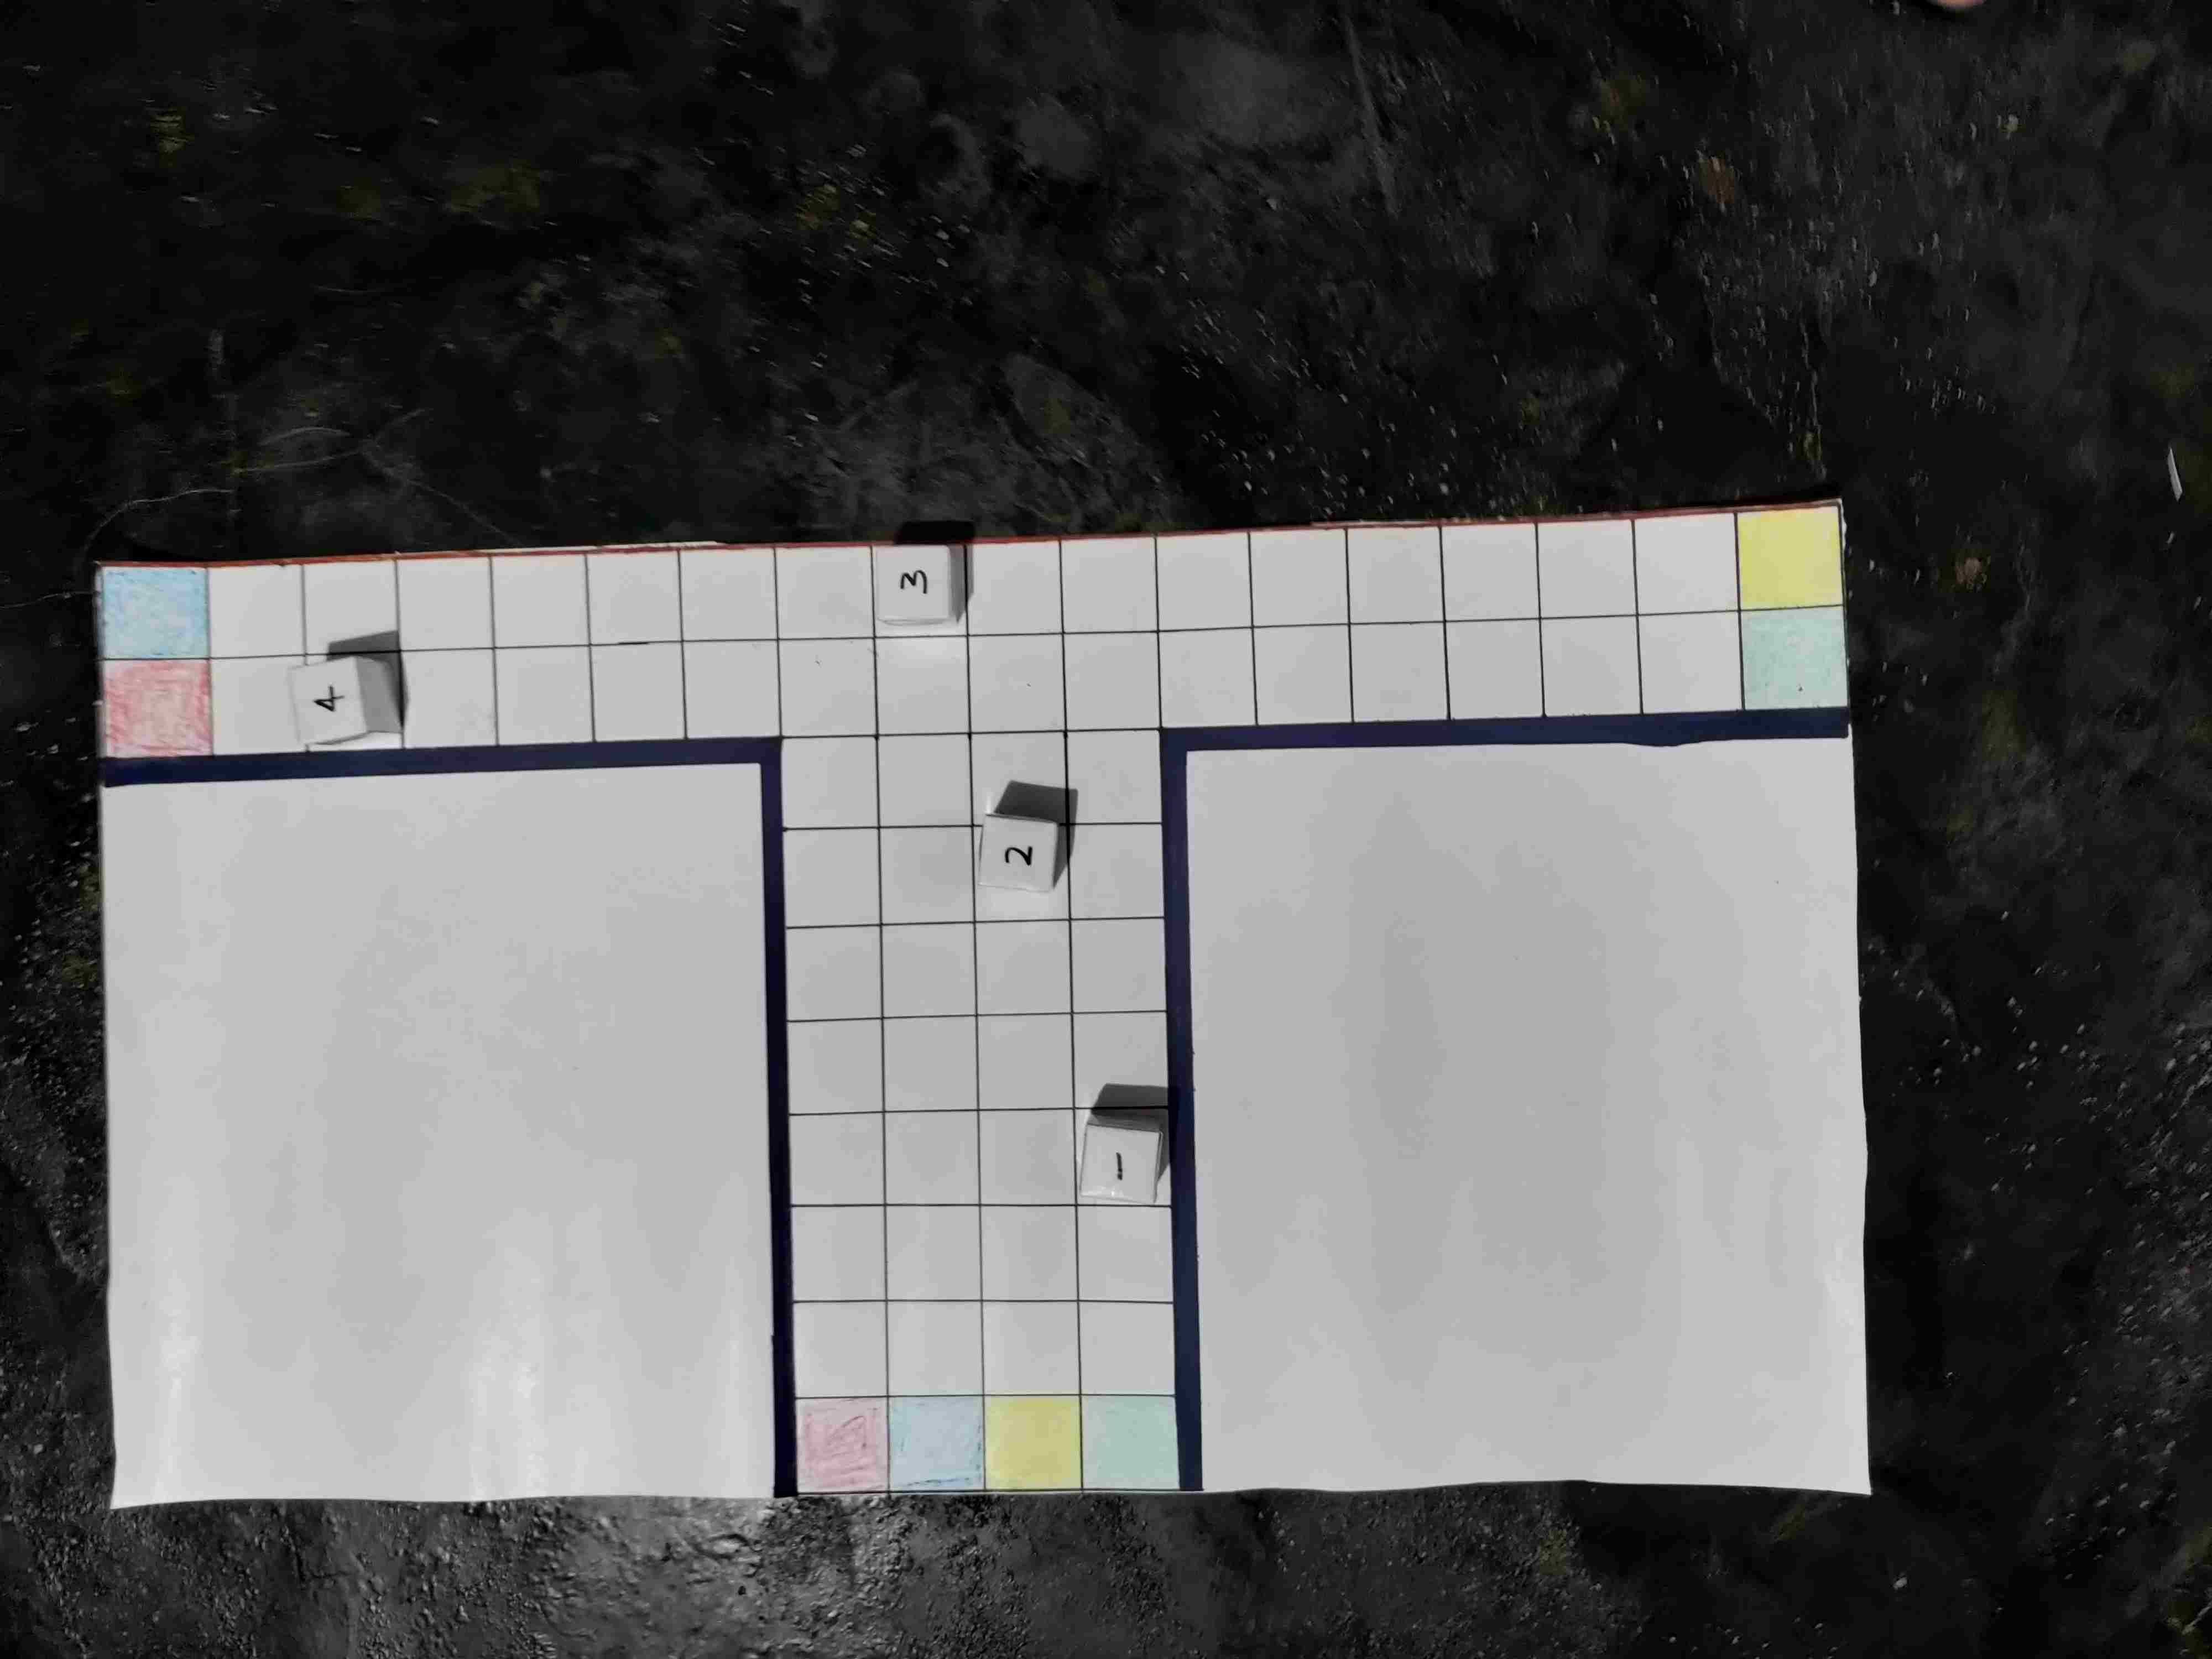arena: (92, 502, 1846, 1499)
bot: (975, 814, 1057, 892), (873, 542, 949, 622), (293, 659, 362, 742), (1080, 1127, 1150, 1201)
